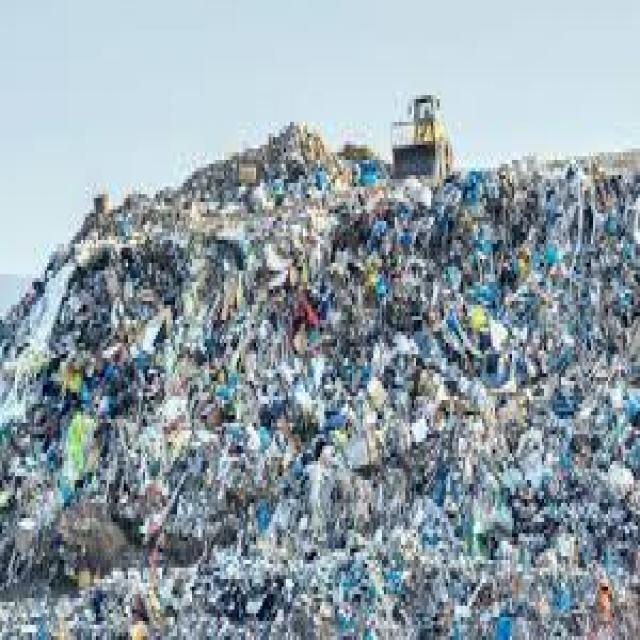heap: (157, 214, 579, 640)
